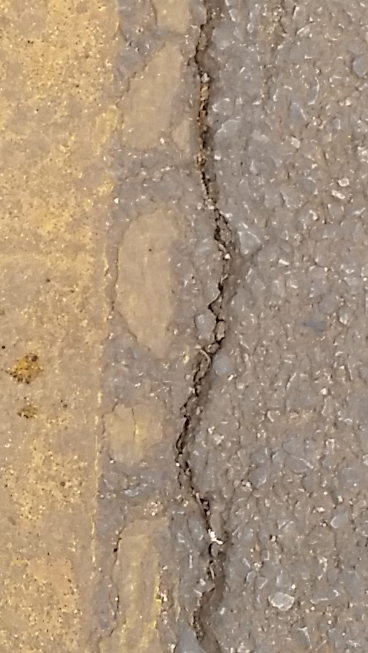A: (145, 4, 282, 638)
